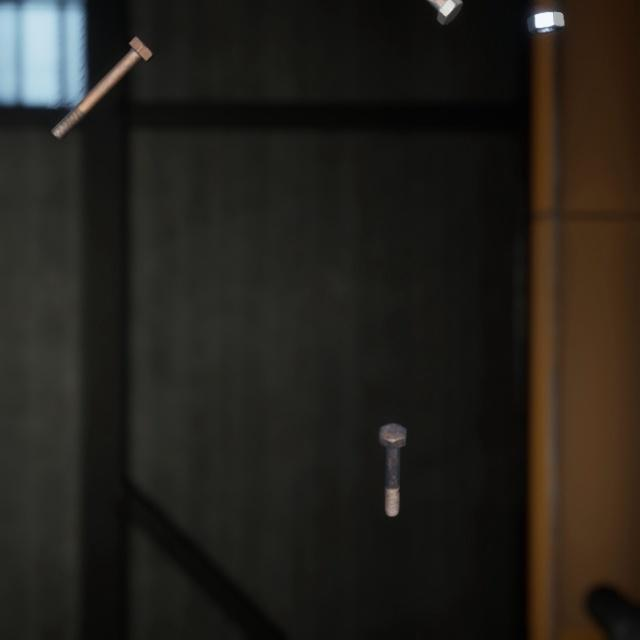bolt: (46, 21, 158, 133), (374, 398, 411, 501), (423, 0, 467, 26)
nut: (522, 0, 569, 29)
